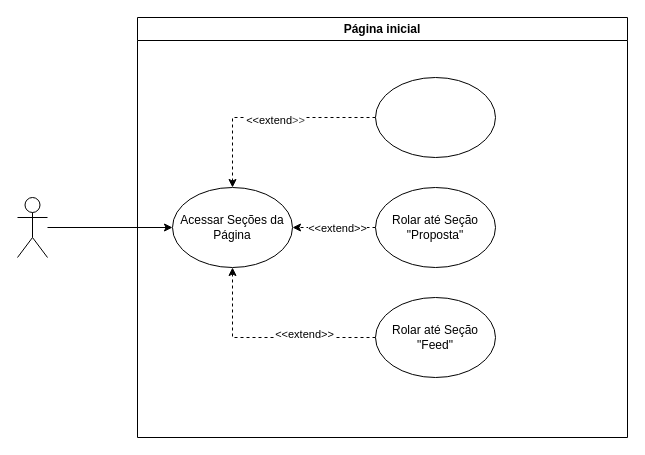
Some shapes in this 645 by 455 pixel diagram are drawn without their labels. Each missing label, with the box of its shape:
Lead: (16, 196, 48, 258)
Rolar até Seção "Sobre": (374, 76, 496, 158)
